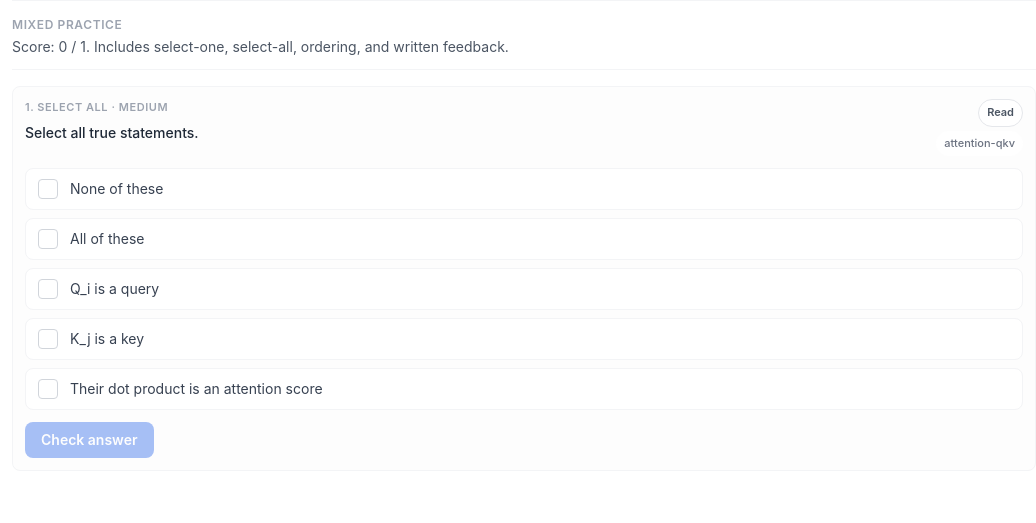
LessonPartPracticeSection pattern_recognition › renders an all-of-these virtual choice for all-true select-all questions
Step 1. Click the button "All of these" → (107, 239), box [25,218,1023,260]
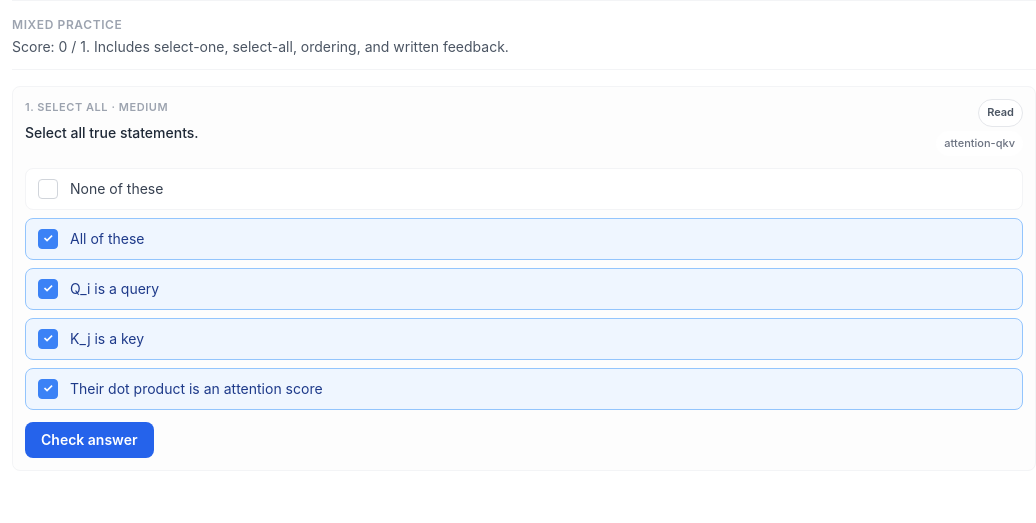
Step 2. Click the button "Check answer" → (89, 440), box [25,422,154,458]
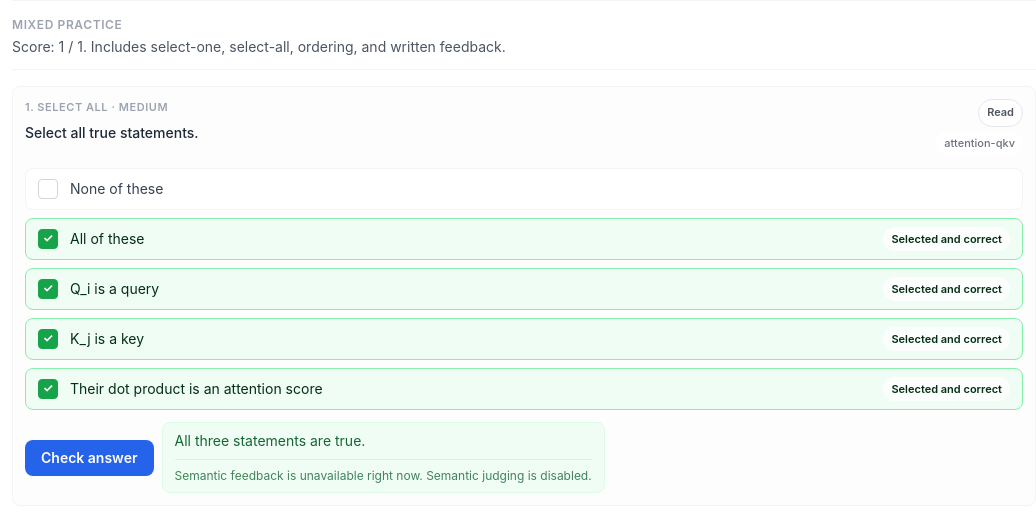
Expected: the button "✓ All of these Selected and correct" is shown, [25,218,1023,260]
Expected: the text "All three statements are true." is shown, [174,432,365,449]
